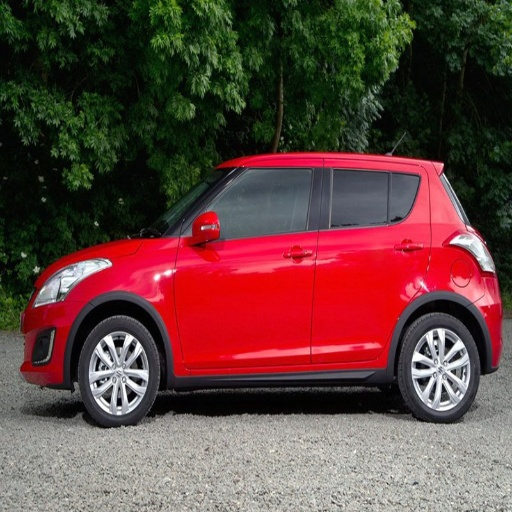back_left_door: (312, 161, 428, 363)
front_left_door: (175, 161, 324, 369)
